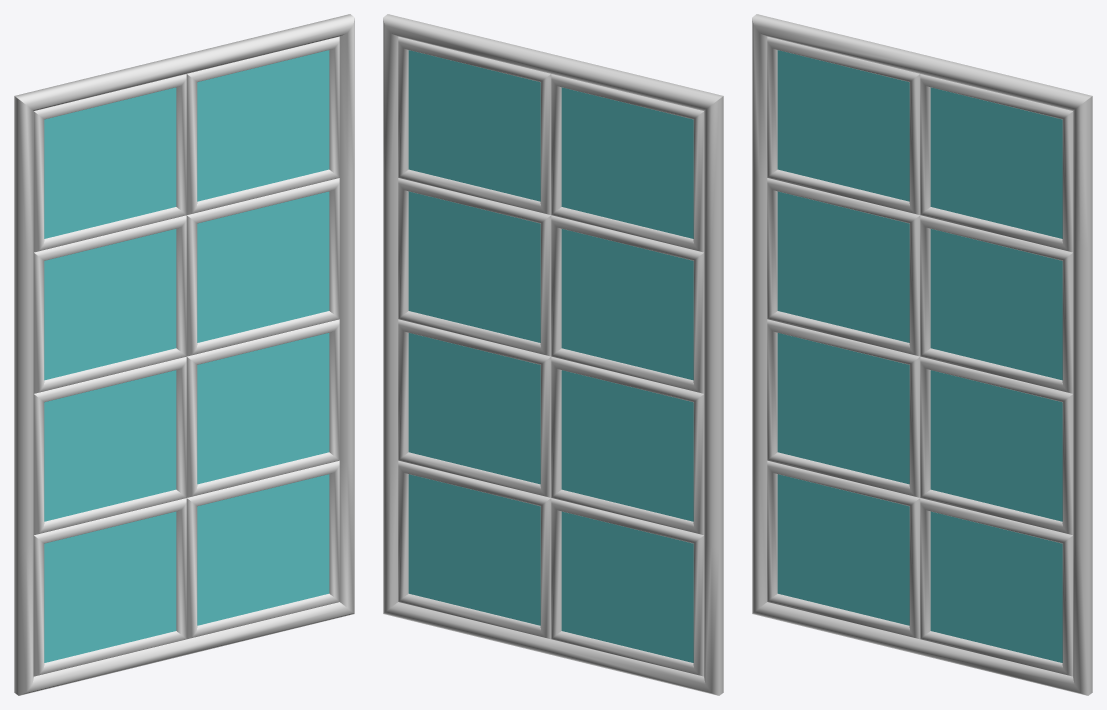
The model's file is SP_House09_Window02.fbx.
3 views of the same model, side by side, from view 1: azimuth 30°, elevation 25°; view 2: azimuth 150°, elevation 25°; view 3: azimuth 330°, elevation 25° (orthographic).
Parts seen in each view (by area): view 1: SP_House09_Window02; view 2: SP_House09_Window02; view 3: SP_House09_Window02.
Part boxes in pixels (<box>): SP_House09_Window02: <box>14,14,354,695</box>; SP_House09_Window02: <box>383,14,723,695</box>; SP_House09_Window02: <box>752,14,1092,695</box>.
Bounding box in the file's own units: 1.12 × 1.91 × 0.0625.
